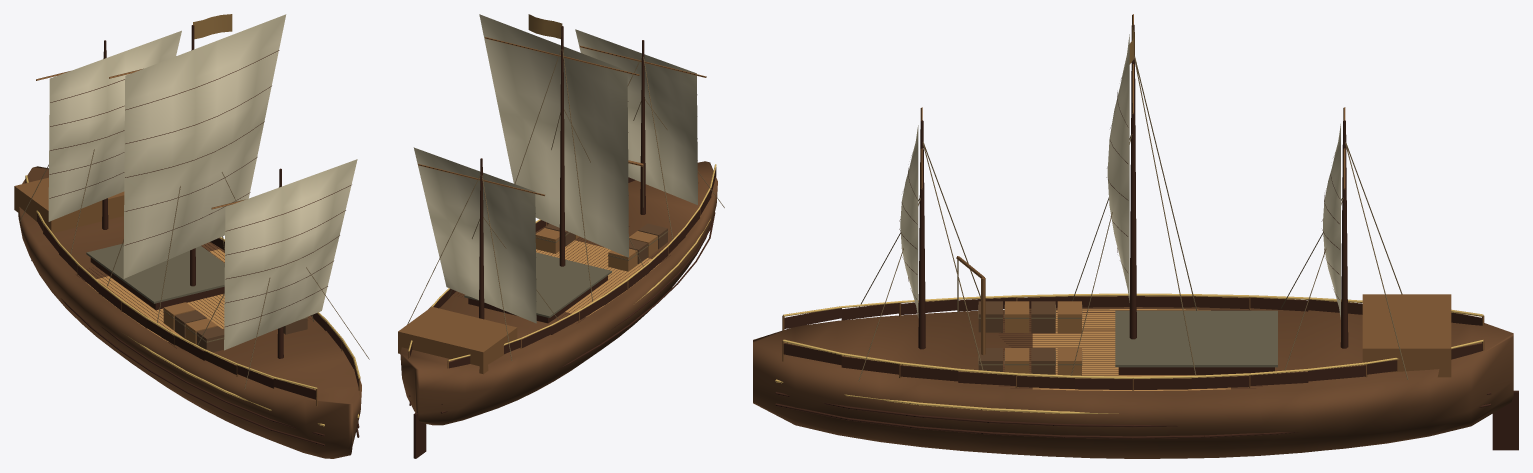
File: merchant-lod1.glb
3 views of the same model, side by side, from view 1: azimuth 30°, elevation 25°; view 2: azimuth 150°, elevation 25°; view 3: azimuth 270°, elevation 25° (orthographic). The views are drawn at different scales.
Parts seen in each view (by area): view 1: sail_02, hull, sail_03, sail_01, fittings_wood, fittings_deck, fittings_trim, deck, cargo_hold_body, flag_01; view 2: sail_02, hull, sail_01, fittings_wood, sail_03, fittings_deck, fittings_trim, deck, mast_timber_02, mast_timber_03, mast_timber_01, cargo_hold_body (+3 smaller); view 3: hull, fittings_wood, fittings_deck, fittings_trim, deck, sail_02, sail_03, sail_01, mast_timber_02, mast_timber_03, mast_timber_01, rudder_pivot (+1 smaller).
Boxes of the visible parts, <box> form: sail_02: <box>123,14,286,278</box>; hull: <box>18,166,361,458</box>; sail_03: <box>224,159,357,350</box>; sail_01: <box>48,30,181,221</box>; fittings_wood: <box>14,177,360,446</box>; fittings_deck: <box>75,243,311,350</box>; fittings_trim: <box>19,50,369,426</box>; deck: <box>86,249,224,341</box>; cargo_hold_body: <box>90,258,224,310</box>; flag_01: <box>193,14,232,39</box>; sail_02: <box>479,14,629,257</box>; hull: <box>400,161,717,425</box>; sail_01: <box>413,147,536,323</box>; fittings_wood: <box>398,160,716,413</box>; sail_03: <box>575,29,697,204</box>; fittings_deck: <box>454,225,670,324</box>; fittings_trim: <box>407,49,724,361</box>; deck: <box>536,232,660,316</box>; mast_timber_02: <box>559,26,565,266</box>; mast_timber_03: <box>640,40,645,214</box>; mast_timber_01: <box>479,158,484,319</box>; cargo_hold_body: <box>468,276,607,323</box>; hull: <box>753,307,1513,458</box>; fittings_wood: <box>775,256,1491,438</box>; fittings_deck: <box>999,310,1277,388</box>; fittings_trim: <box>775,55,1483,413</box>; deck: <box>1032,309,1230,390</box>; sail_02: <box>1106,34,1129,302</box>; sail_03: <box>899,125,918,317</box>; sail_01: <box>1321,124,1340,319</box>; mast_timber_02: <box>1129,24,1136,339</box>; mast_timber_03: <box>918,120,925,349</box>; mast_timber_01: <box>1340,120,1348,348</box>; rudder_pivot: <box>1492,390,1518,450</box>.
Bounding box in the file's own units: 11.55 × 22.36 × 36.26.
